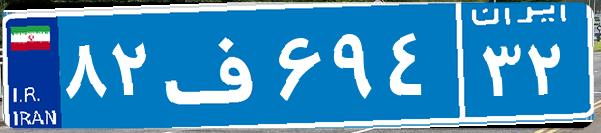2: (110, 28, 158, 105), (525, 38, 570, 115)
3: (475, 38, 525, 113)
4: (385, 28, 445, 110)
6: (273, 28, 330, 110)
8: (57, 26, 110, 107)
9: (330, 28, 385, 110)
ف: (158, 15, 273, 115)
